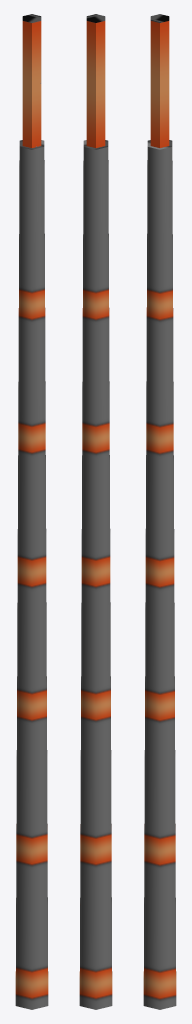
The model's file is MoonTether_Rod.fbx.
3 renders of one model, left to right at view 1: azimuth 90°, elevation 25°; view 2: azimuth 150°, elevation 25°; view 3: azimuth 270°, elevation 25°, orthographic.
Parts seen in each view (by area): view 1: MoonTether_Rod; view 2: MoonTether_Rod; view 3: MoonTether_Rod.
Boxes of the visible parts, x1,y1,x2,y2 form: MoonTether_Rod: [15, 14, 48, 1009]; MoonTether_Rod: [79, 14, 112, 1009]; MoonTether_Rod: [143, 14, 176, 1009].
Size of the model in its own units: 11.98 by 346 by 10.38.
1 material, 1 textured.
